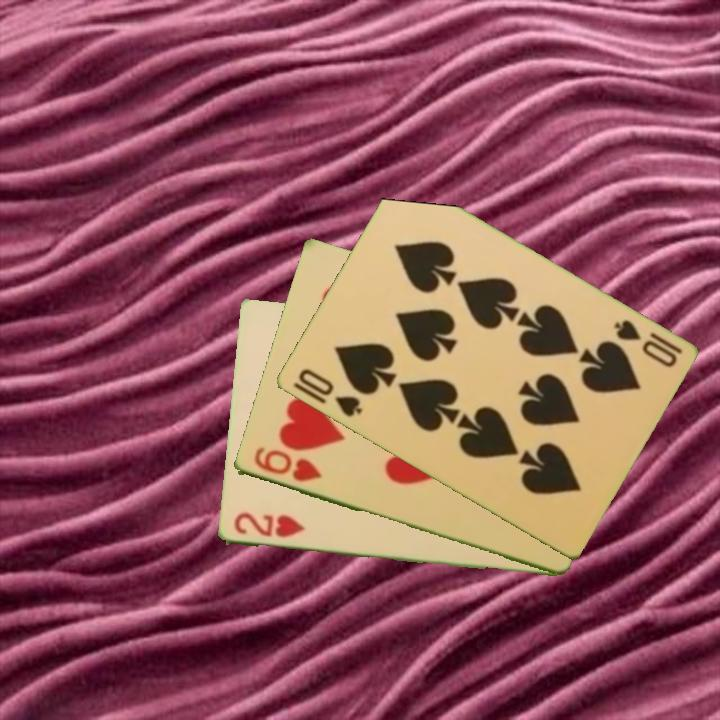10s: (609, 316, 685, 371), (294, 365, 365, 420)
2h: (230, 509, 308, 541)
6h: (250, 443, 324, 485)
